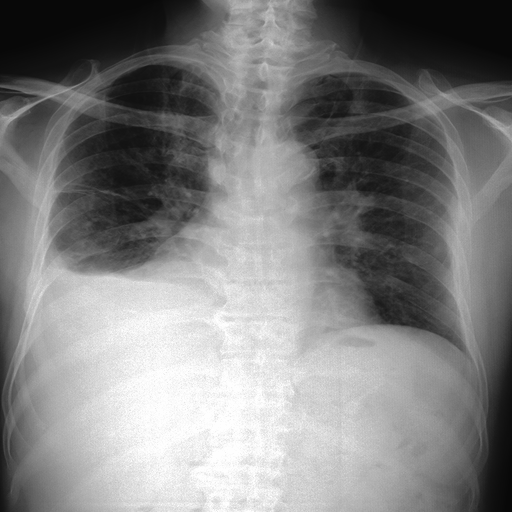Consolidation: (241, 138, 318, 187)
ILD: (63, 229, 120, 266)
Nodule/Mass: (147, 245, 376, 324)
Pleural effusion: (32, 225, 142, 305)
Pneumothorax: (132, 70, 190, 171), (180, 57, 223, 102), (50, 181, 130, 200)
